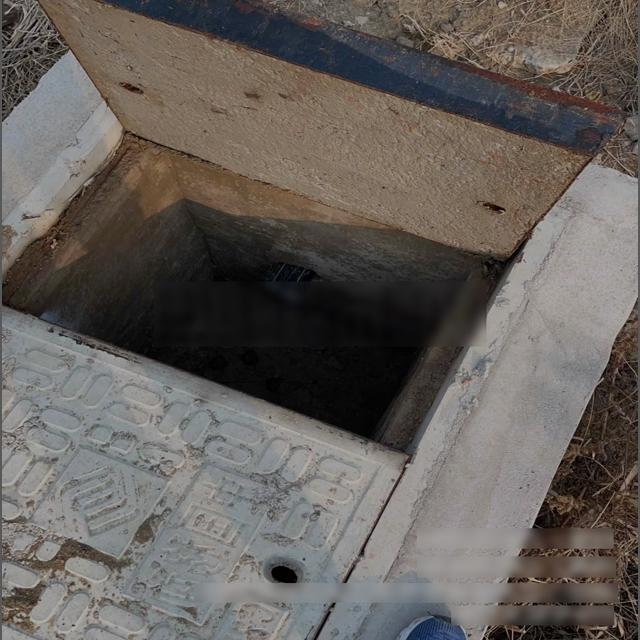uncovered: (1, 0, 631, 640)
